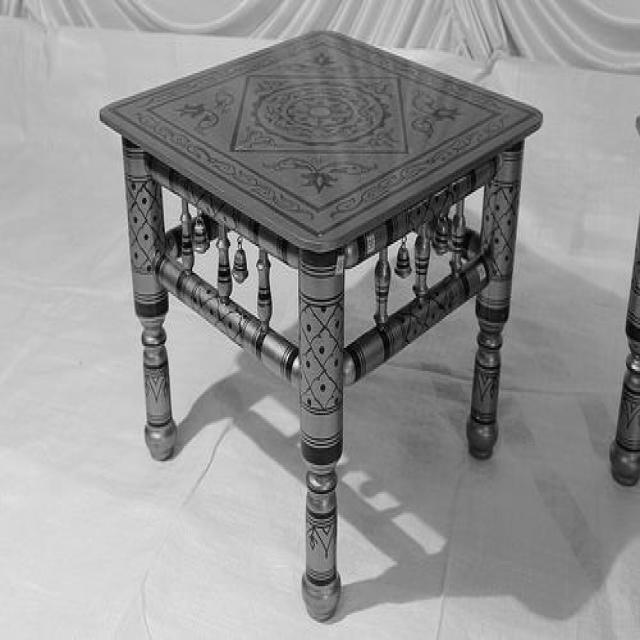table: (102, 27, 546, 620)
